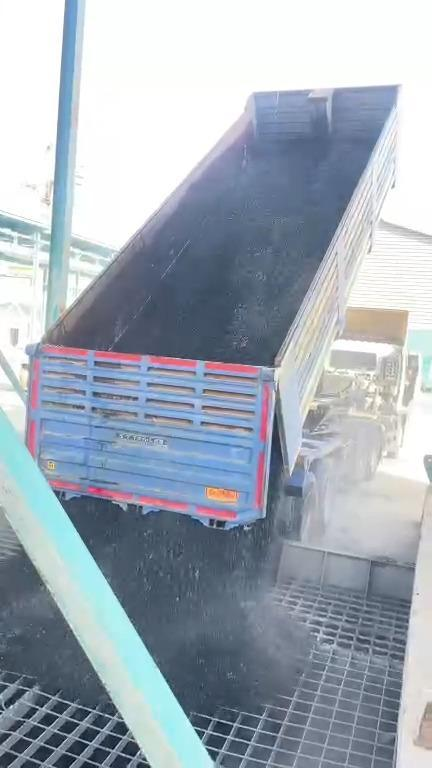gravel: (118, 136, 368, 365), (69, 490, 304, 708), (0, 584, 98, 700)
